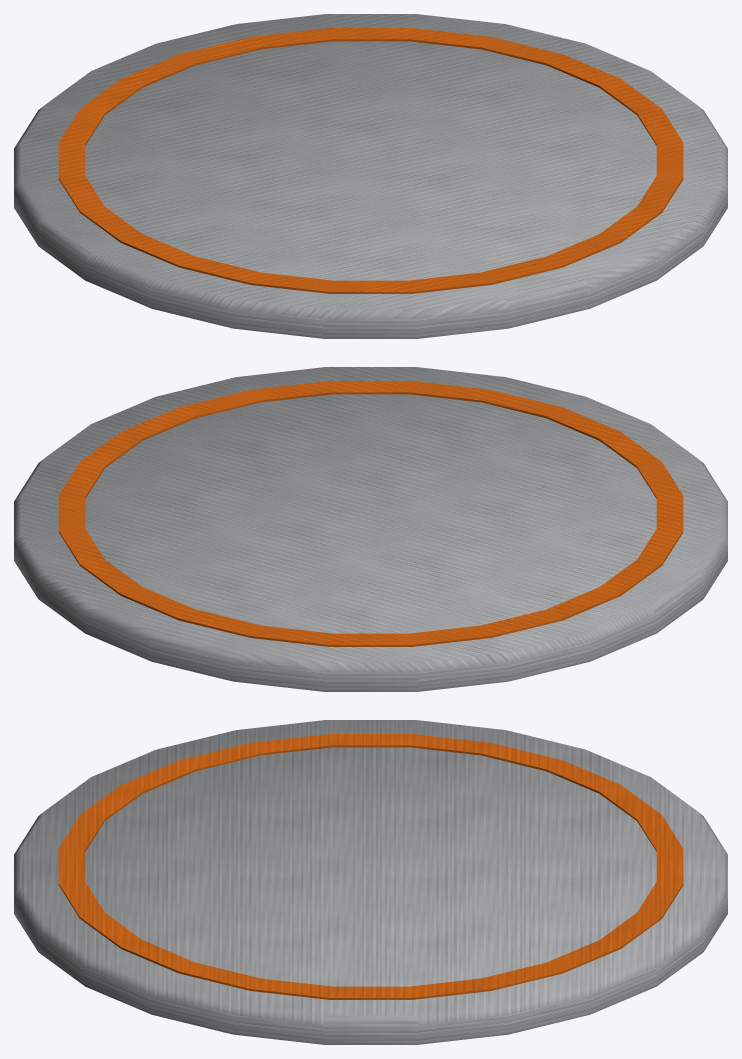
File: plataforma_giratoria.glb
3 renders of one model, top to bottom at view 1: azimuth 30°, elevation 25°; view 2: azimuth 150°, elevation 25°; view 3: azimuth 270°, elevation 25°, orthographic.
Visible parts, largest first — view 1: Inteiro; view 2: Inteiro; view 3: Inteiro.
Boxes of the visible parts, x1,y1,x2,y2 form: Inteiro: [14, 14, 727, 338]; Inteiro: [14, 367, 727, 691]; Inteiro: [14, 720, 727, 1044].
Size of the model in its own units: 3.97 by 0.172 by 3.97.
1 material, 1 textured.
